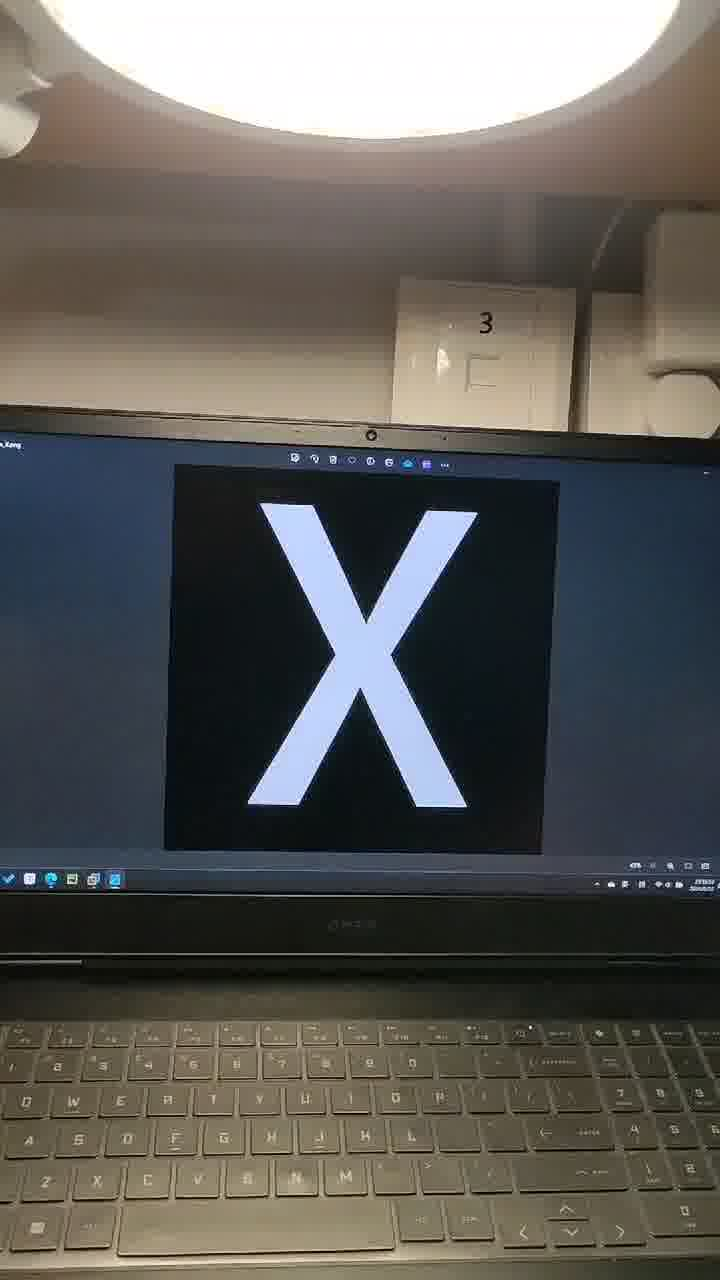X: (226, 460, 584, 862)
